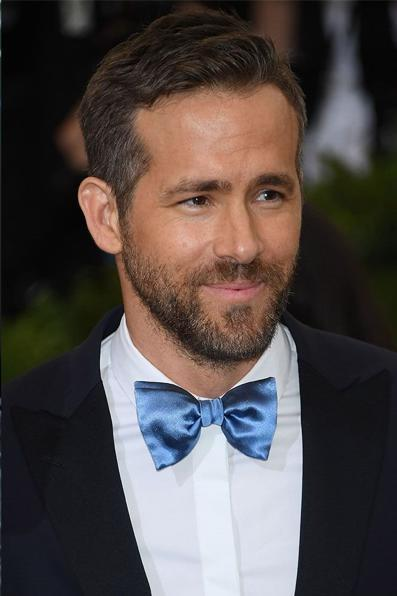Sober: (142, 93, 297, 331)
